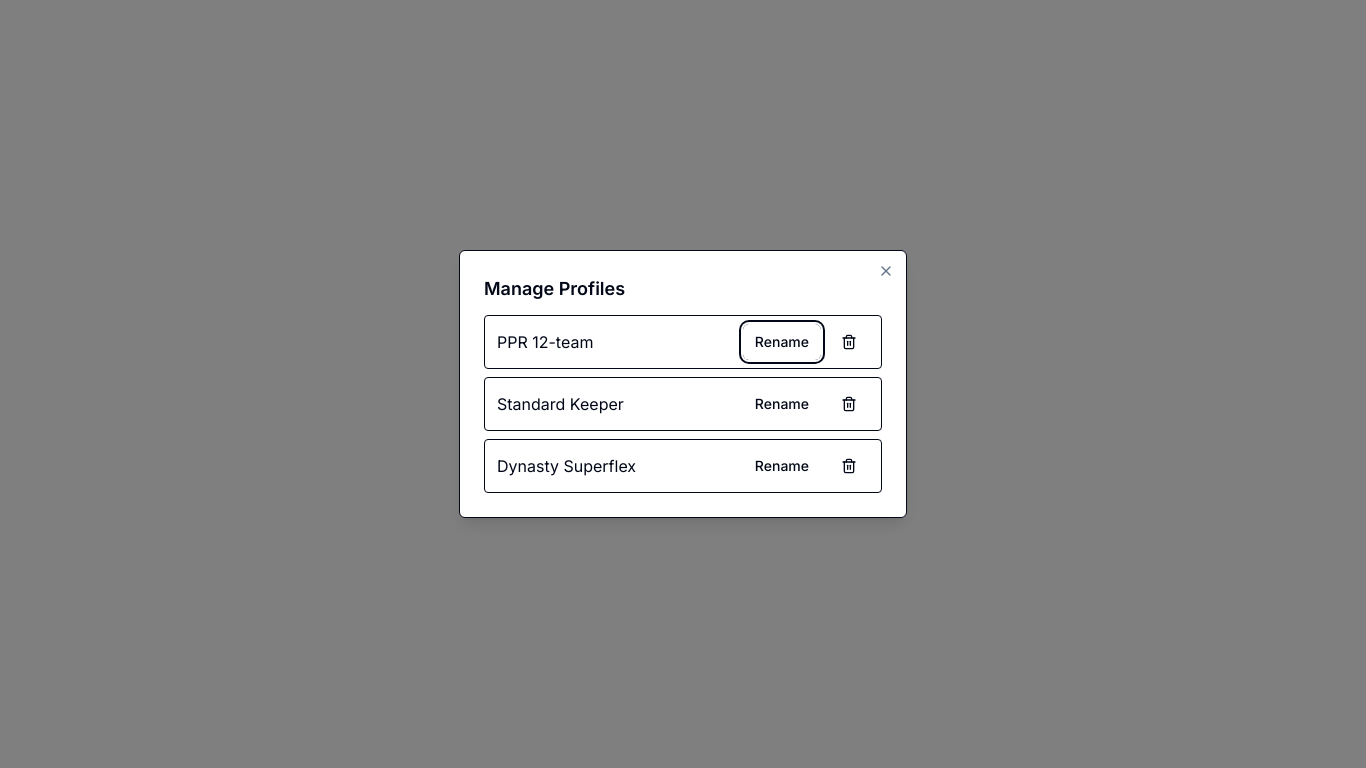
ProfileManagerDialog › Cancel during confirm-delete reverts the row without deleting
Click the button named "delete PPR 12-team": (849, 342) [829,324,869,360]
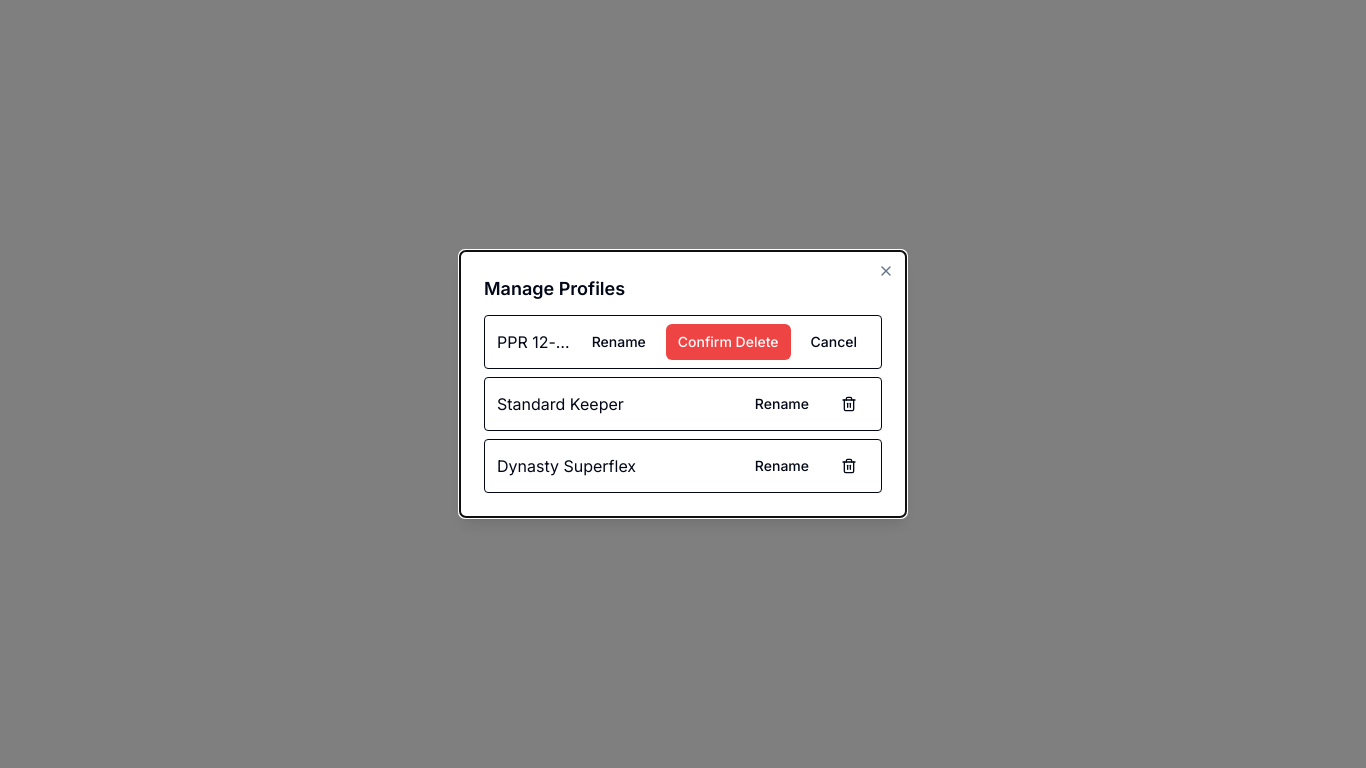
Expected: the button "Confirm Delete" is shown, [666,324,790,360]
Click the button "Cancel": (834, 342) [798,324,869,360]
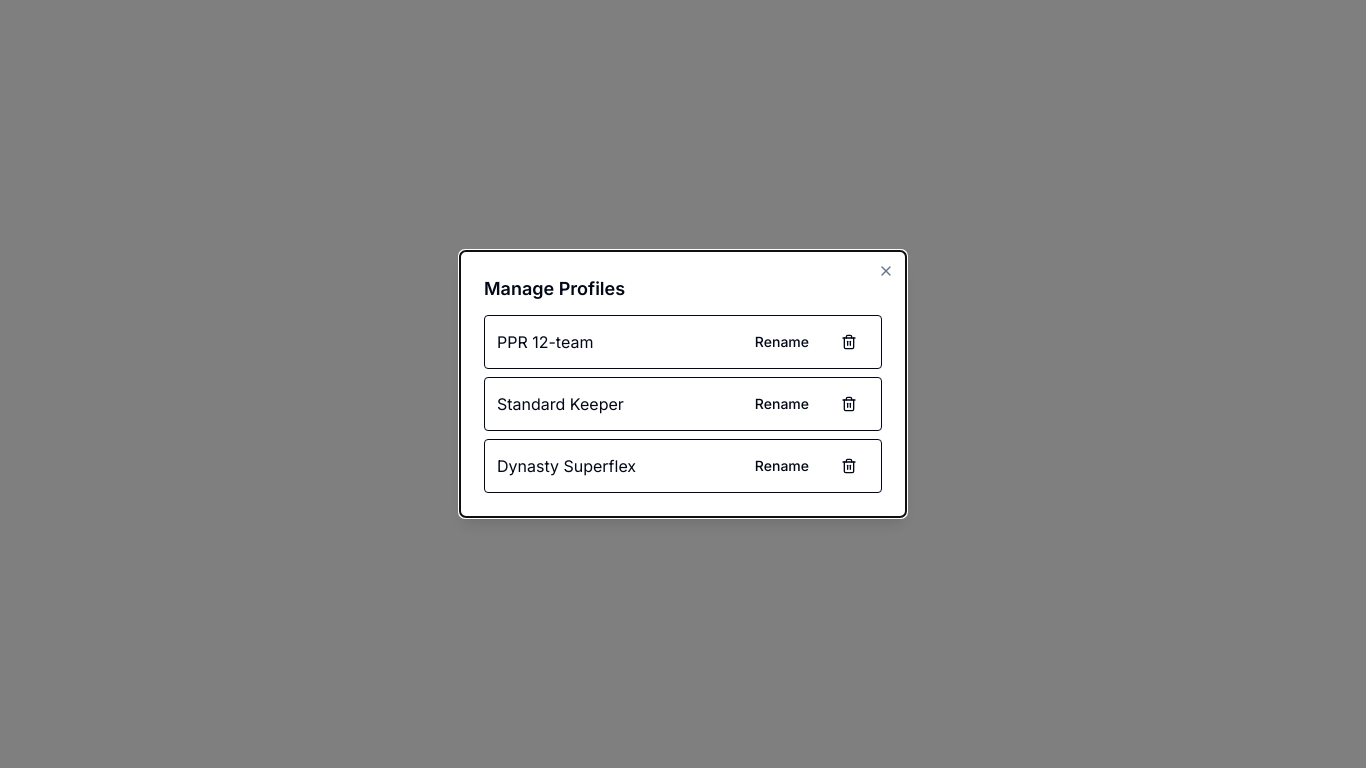
Expected: the button "Confirm Delete" is gone
Expected: the button named "delete PPR 12-team" is shown, [829,324,869,360]
